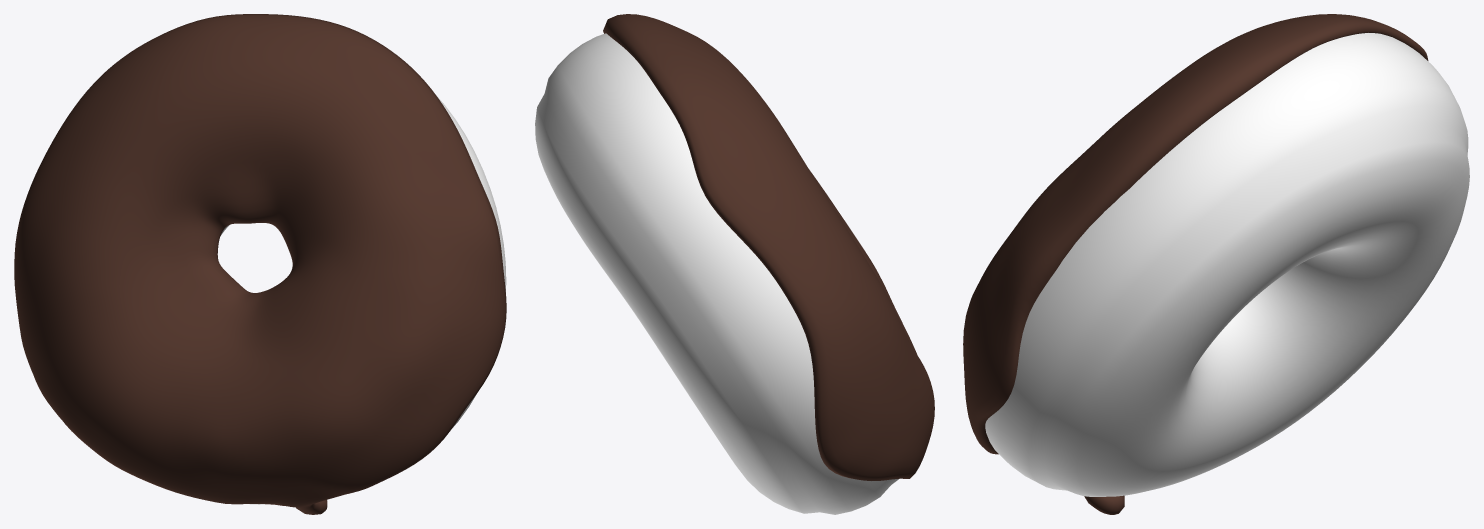
File: donut.glb
3 renders of one model, left to right at view 1: azimuth 30°, elevation 25°; view 2: azimuth 150°, elevation 25°; view 3: azimuth 270°, elevation 25°, orthographic. The views are drawn at different scales.
Visible parts, largest first — view 1: donut icing, donut; view 2: donut, donut icing; view 3: donut, donut icing.
Boxes of the visible parts, x1,y1,x2,y2 form: donut icing: (14, 14, 506, 514); donut: (220, 96, 506, 504); donut: (535, 33, 898, 514); donut icing: (603, 14, 934, 480); donut: (985, 33, 1469, 496); donut icing: (963, 14, 1428, 514).
Size of the model in its own units: 0.3314 by 0.3647 by 0.3352.
